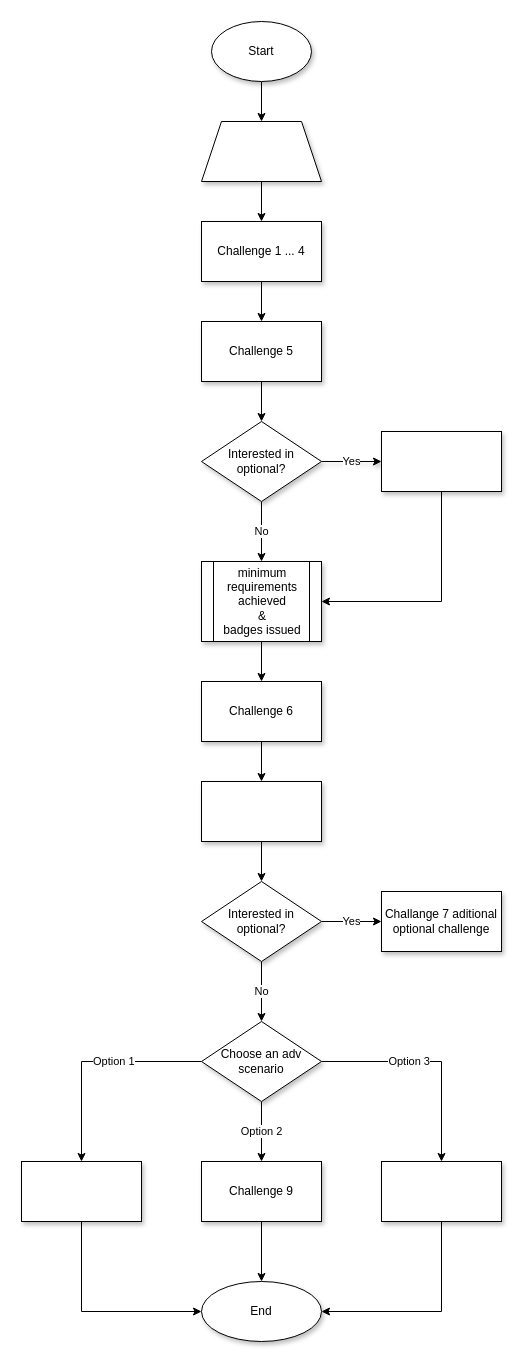
Image size: 525x1366. Some labels were removed from this diagram. Each missing label, with the centre of its shape:
"BYOS deployment" goes at point (262, 152).
"Challange 5 aditional optional challenge" goes at point (442, 462).
"Challenge 10" goes at point (442, 1192).
"Challenge 7" goes at point (262, 812).
"Challenge 8" goes at point (82, 1192).
